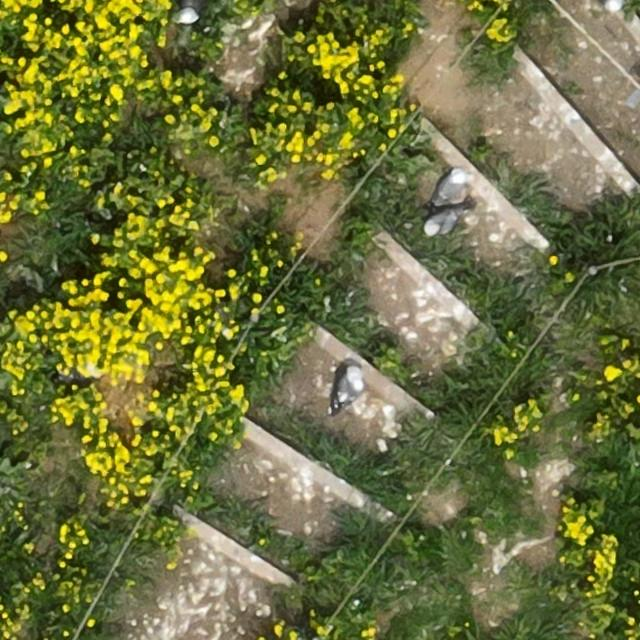umineko: (337, 370, 362, 404), (436, 173, 464, 201), (425, 212, 459, 235), (179, 3, 200, 22)
